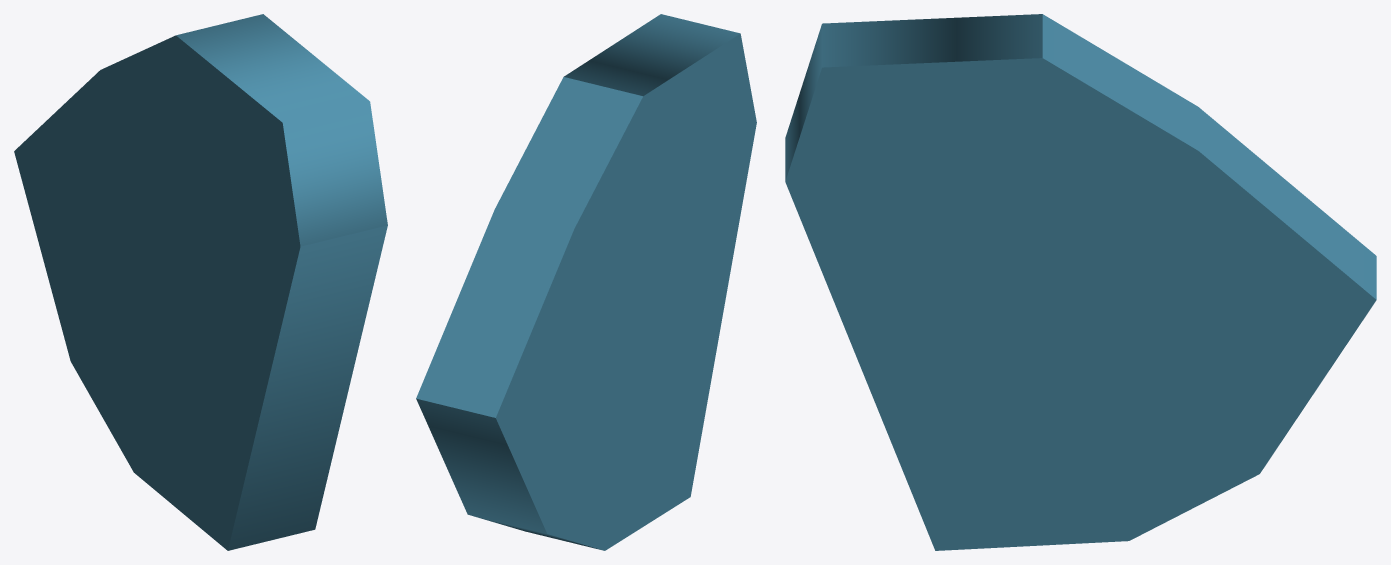
Rendered from NexusC_Trigger_3.fbx.
3 views of the same model, side by side, from view 1: azimuth 30°, elevation 25°; view 2: azimuth 150°, elevation 25°; view 3: azimuth 270°, elevation 25° (orthographic). The views are drawn at different scales.
Parts seen in each view (by area): view 1: polySurface46; view 2: polySurface46; view 3: polySurface46.
Part boxes in pixels (x1,y1,x2,y2): polySurface46: [14, 14, 387, 550]; polySurface46: [416, 14, 756, 550]; polySurface46: [785, 14, 1376, 550].
Bounding box in the file's own units: 9.22 × 48.11 × 52.31.
